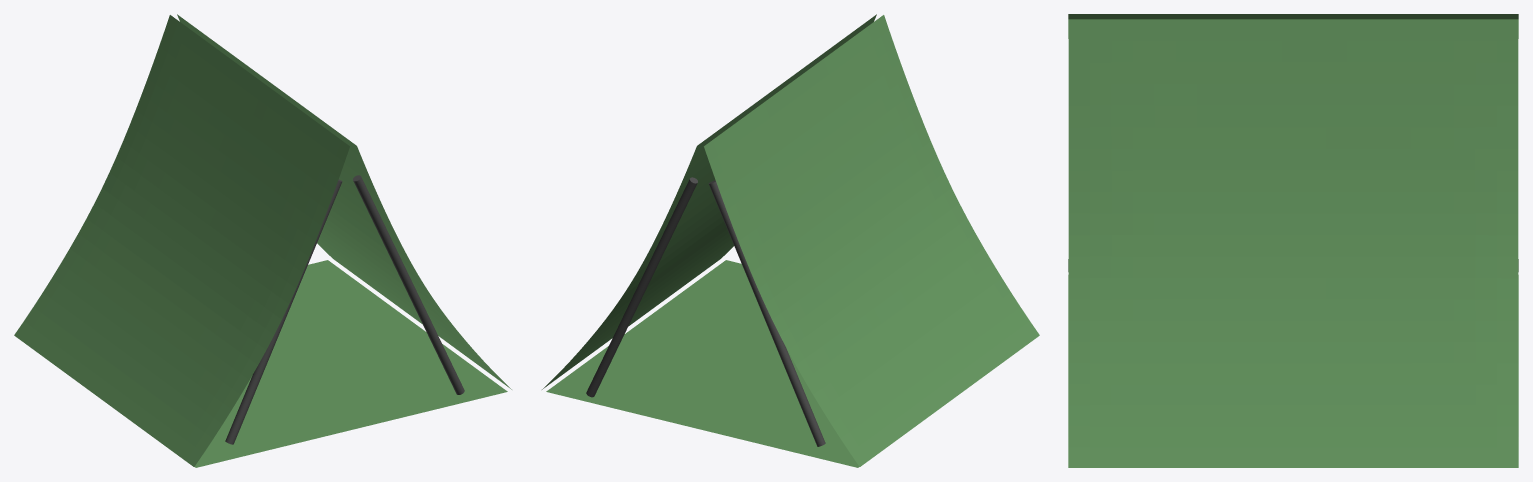
Rendered from tent.fbx.
The picture shows the model from 3 angles, left to right: view 1: azimuth 30°, elevation 25°; view 2: azimuth 150°, elevation 25°; view 3: azimuth 270°, elevation 25°; orthographic projection. The views are drawn at different scales.
Parts seen in each view (by area): view 1: 平面, 平面.002, 平面.001, 円柱.001, 円柱; view 2: 平面, 平面.002, 平面.001, 円柱.003, 円柱.002; view 3: 平面.001, 平面.
Boxes of the visible parts, x1=… form: 平面: x1=14, y1=15, x2=349, y2=466; 平面.002: x1=194, y1=260, x2=507, y2=467; 平面.001: x1=177, y1=14, x2=511, y2=389; 円柱.001: x1=353, y1=175, x2=464, y2=394; 円柱: x1=225, y1=179, x2=342, y2=444; 平面: x1=704, y1=15, x2=1039, y2=466; 平面.002: x1=546, y1=260, x2=859, y2=467; 平面.001: x1=542, y1=14, x2=876, y2=389; 円柱.003: x1=586, y1=177, x2=697, y2=397; 円柱.002: x1=708, y1=180, x2=825, y2=446; 平面.001: x1=1068, y1=19, x2=1518, y2=467; 平面: x1=1068, y1=14, x2=1518, y2=271.
Size of the model in its own units: 204 by 174 by 200.
